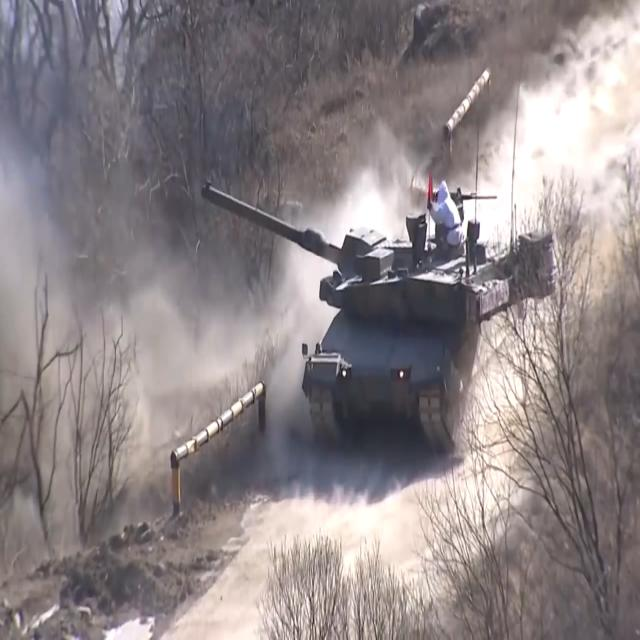korea tank: (200, 177, 558, 455)
